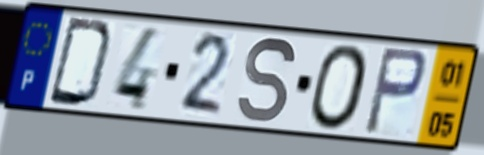2: (173, 29, 235, 122)
4: (107, 23, 162, 114)
D: (45, 14, 118, 110)
O: (308, 42, 372, 133)
P: (361, 44, 429, 139)
S: (235, 34, 299, 127)
